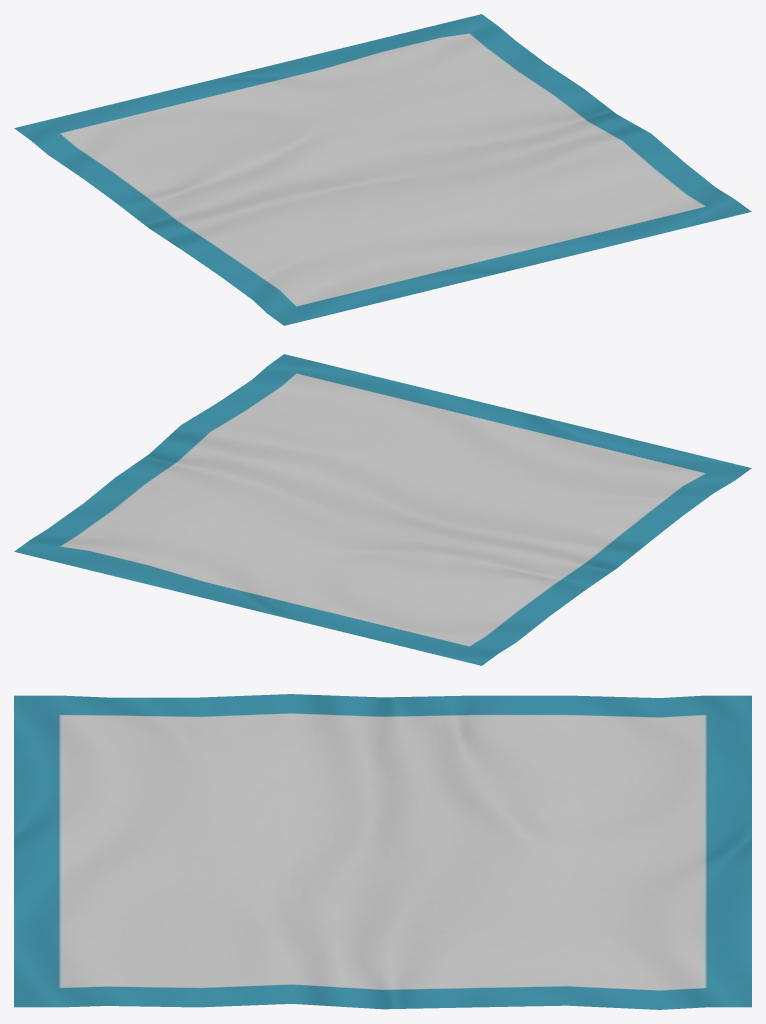
The model's file is cloth_02.fbx.
3 renders of one model, top to bottom at view 1: azimuth 30°, elevation 25°; view 2: azimuth 150°, elevation 25°; view 3: azimuth 270°, elevation 25°, orthographic. The views are drawn at different scales.
Visible parts, largest first — view 1: cloth_02; view 2: cloth_02; view 3: cloth_02.
Boxes of the visible parts, x1,y1,x2,y2 form: cloth_02: (14,14,751,325); cloth_02: (14,354,751,665); cloth_02: (14,694,751,1009).
Bounding box in the file's own units: 0.5266 × 0.00933 × 0.5252.
